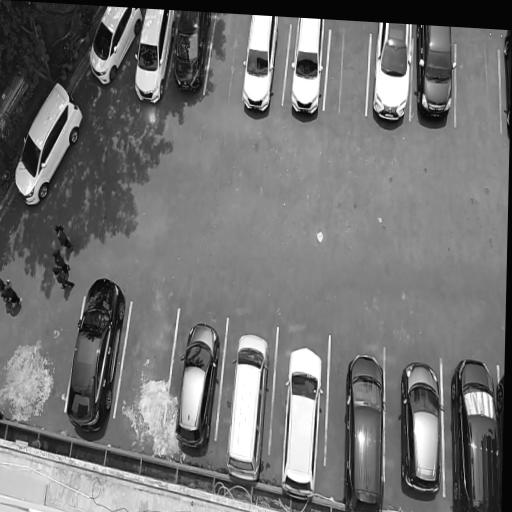Car: (11, 75, 88, 215), (66, 270, 126, 445), (338, 345, 393, 512), (446, 339, 499, 512), (278, 336, 325, 501), (223, 327, 270, 489), (398, 355, 445, 499), (171, 320, 220, 455), (413, 25, 458, 155), (369, 22, 411, 133), (88, 5, 137, 99), (287, 17, 327, 123), (133, 8, 170, 110), (242, 15, 277, 116), (169, 10, 208, 95), (500, 30, 512, 137)
Space Available: (128, 285, 165, 444), (455, 29, 499, 142), (330, 20, 368, 126), (211, 13, 240, 102)
